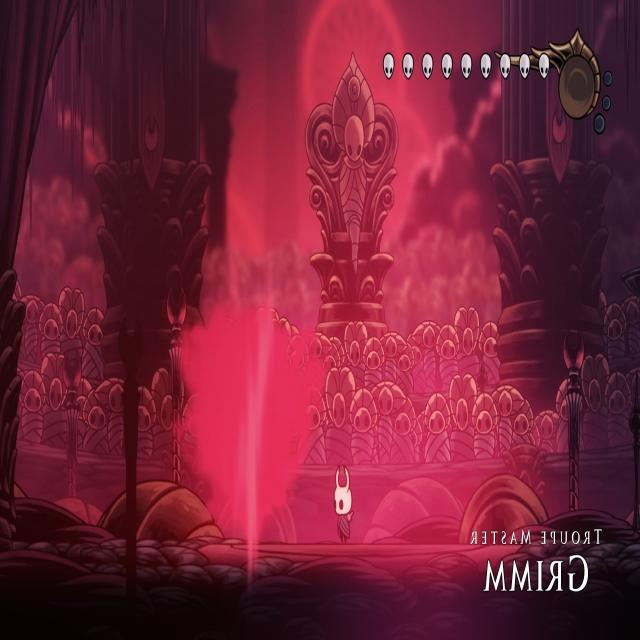Player: (331, 460, 357, 546)
